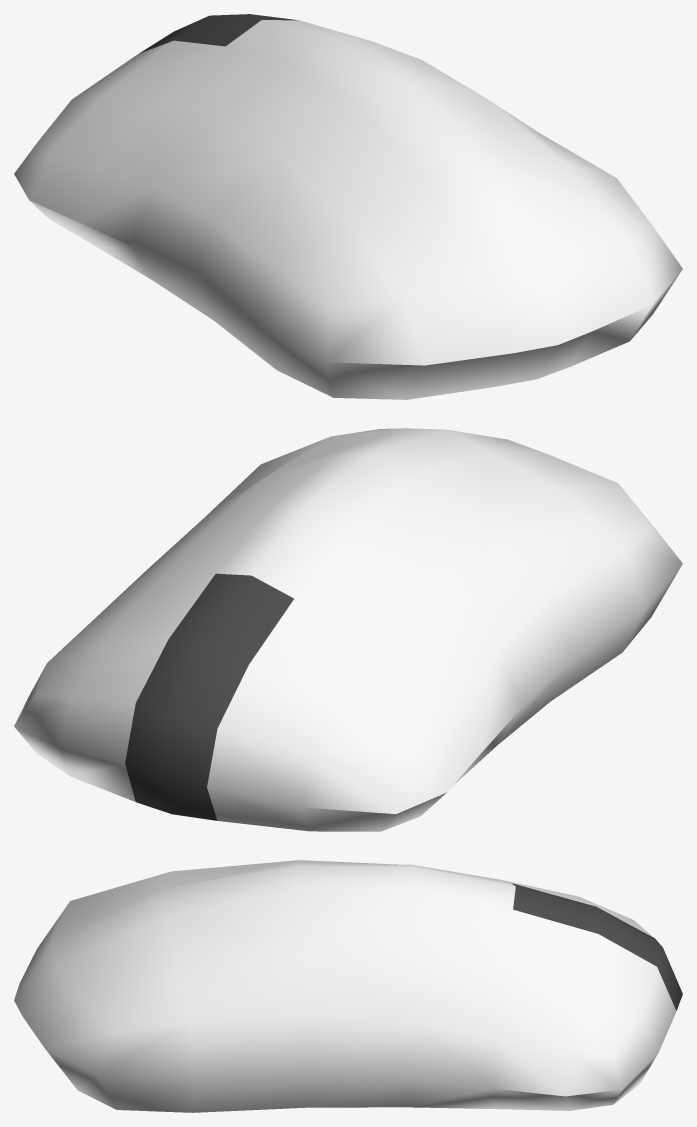
The model's file is PC_mouse_1.glb.
3 renders of one model, top to bottom at view 1: azimuth 30°, elevation 25°; view 2: azimuth 150°, elevation 25°; view 3: azimuth 270°, elevation 25°, orthographic. The views are drawn at different scales.
Parts seen in each view (by area): view 1: PC_mouse_1; view 2: PC_mouse_1; view 3: PC_mouse_1.
Boxes of the visible parts, x1,y1,x2,y2 form: PC_mouse_1: (14, 14, 682, 399); PC_mouse_1: (14, 428, 682, 831); PC_mouse_1: (14, 860, 682, 1112).
Size of the model in its own units: 0.1136 by 0.0528 by 0.1832.
Materials: 1 (1 with a texture image).
